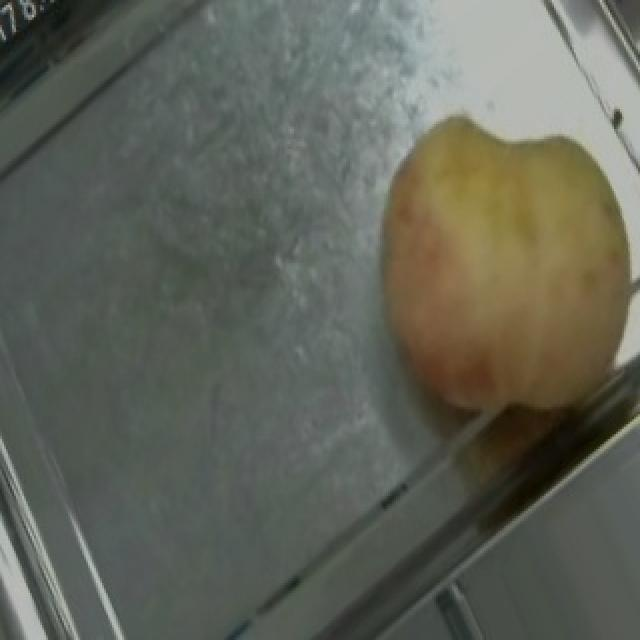Fruit: (332, 87, 640, 461)
